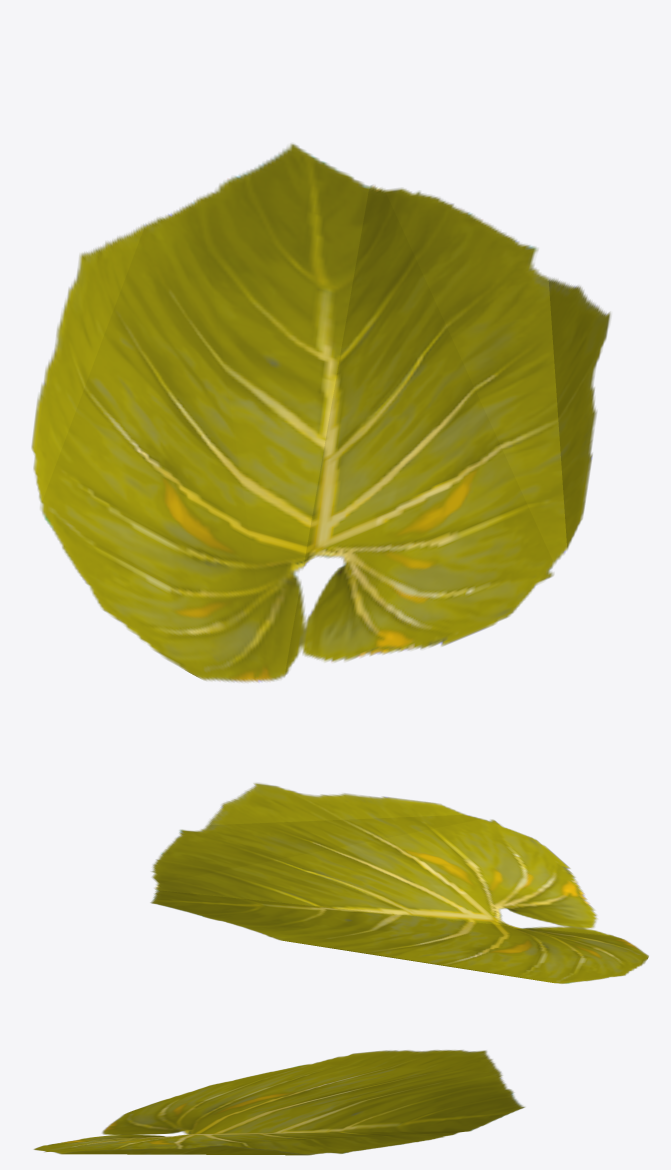
The model's file is WPlant_3_Leaf_3.gltf.
3 views of the same model, one above another, from view 1: azimuth 30°, elevation 25°; view 2: azimuth 150°, elevation 25°; view 3: azimuth 270°, elevation 25° (orthographic). The views are drawn at different scales.
Parts seen in each view (by area): view 1: WPlant_3_Leaf_3; view 2: WPlant_3_Leaf_3; view 3: WPlant_3_Leaf_3.
Part boxes in pixels (x1,y1,x2,y2): WPlant_3_Leaf_3: (31,143,610,682); WPlant_3_Leaf_3: (150,783,648,983); WPlant_3_Leaf_3: (33,1050,524,1155).
Size of the model in its own units: 1.49 by 0.5919 by 1.71.
Materials: 1 (1 with a texture image).
